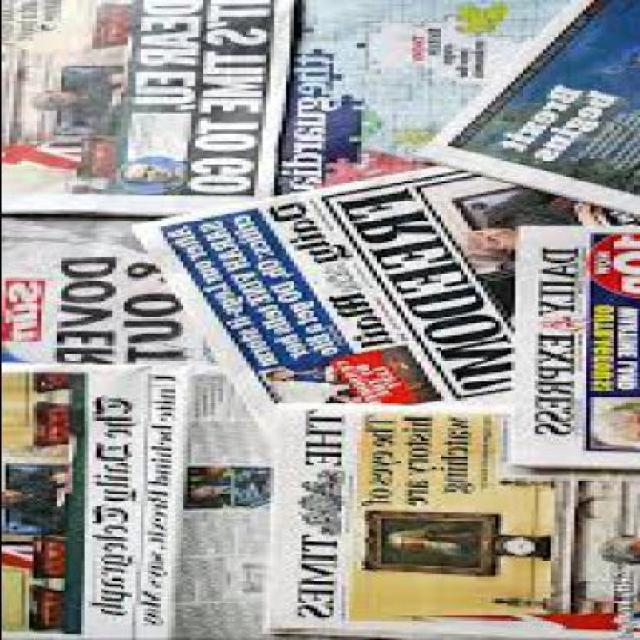PAPER: (1, 0, 638, 638), (122, 165, 636, 424), (257, 399, 617, 633), (2, 363, 263, 639), (1, 0, 292, 215), (272, 0, 534, 208), (402, 0, 636, 214), (2, 215, 245, 363), (501, 221, 637, 479), (573, 478, 636, 638)
